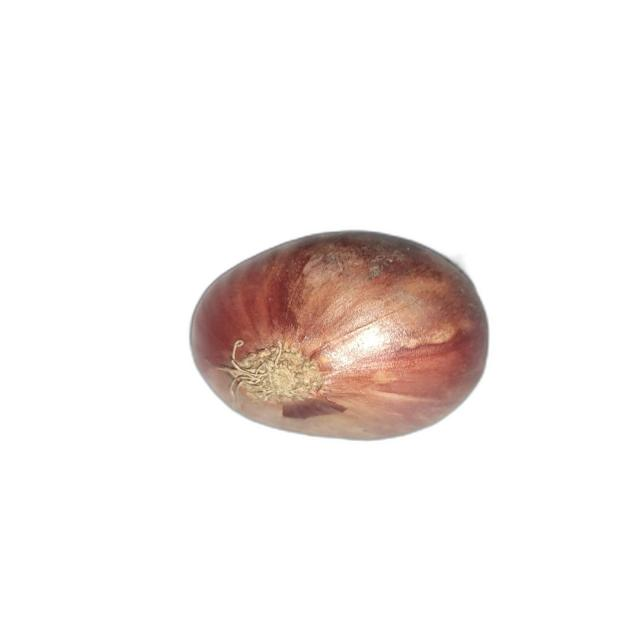onion: (188, 229, 491, 442)
